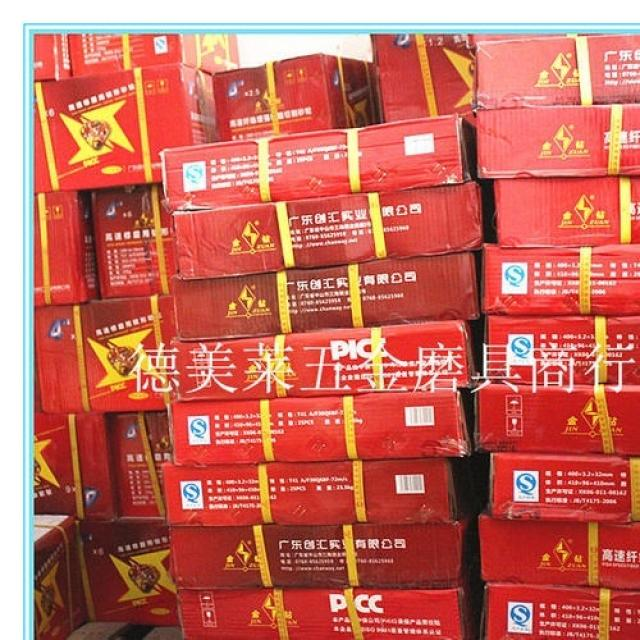box: (158, 115, 478, 212), (172, 181, 483, 279), (175, 251, 482, 345), (171, 507, 479, 589), (35, 62, 219, 194), (172, 388, 476, 466), (180, 320, 474, 399), (162, 453, 477, 526), (178, 567, 481, 638), (371, 35, 598, 122), (33, 293, 178, 412), (212, 52, 386, 141), (466, 102, 639, 179), (474, 32, 639, 110), (474, 381, 639, 457), (477, 516, 637, 590), (73, 518, 180, 625), (482, 244, 639, 312), (491, 450, 639, 522), (91, 184, 180, 300), (491, 175, 639, 244), (485, 316, 639, 380), (32, 409, 119, 520), (479, 580, 639, 631), (32, 190, 103, 304), (32, 514, 90, 638), (67, 35, 241, 76), (111, 410, 175, 520), (34, 37, 70, 80)
